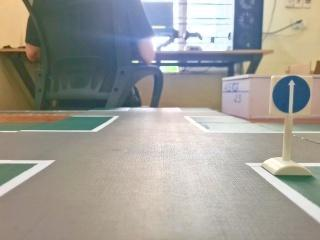straight: (262, 68, 317, 118)
